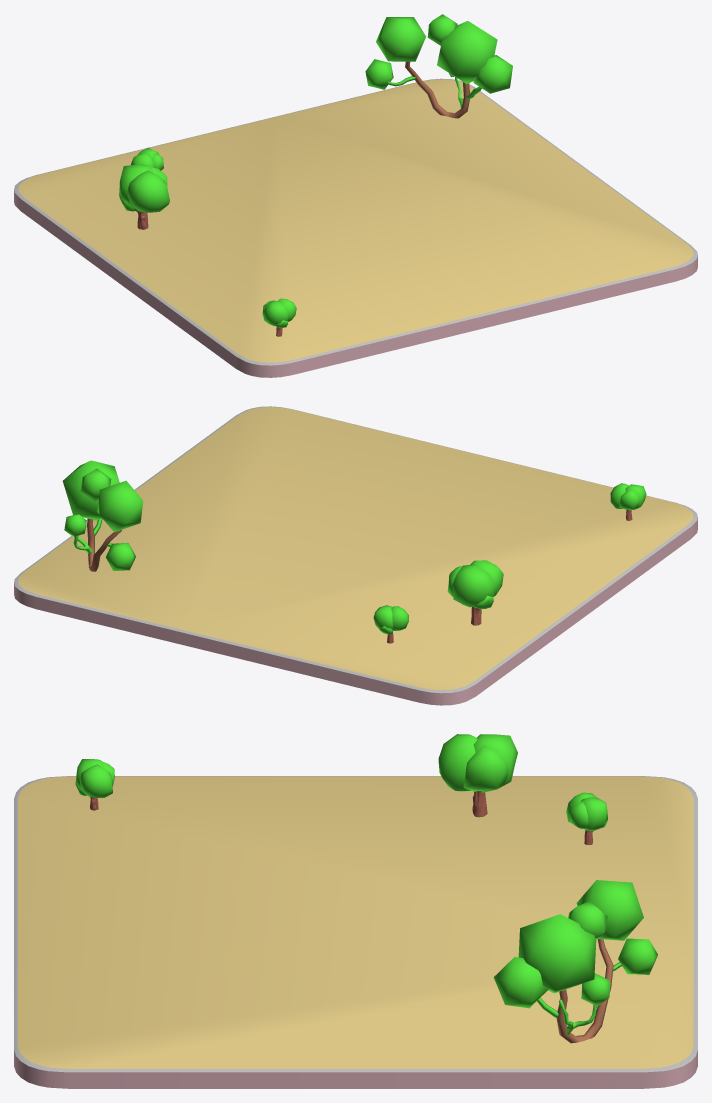
The model's file is ffiish platform.fbx.
The picture shows the model from 3 angles, top to bottom: view 1: azimuth 30°, elevation 25°; view 2: azimuth 150°, elevation 25°; view 3: azimuth 270°, elevation 25°; orthographic projection. The views are drawn at different scales.
Visible parts, largest first — view 1: ground, Tree_lp_11, Icosphere, Icosphere.001; view 2: ground, Tree_lp_11, Icosphere, Icosphere.001, Icosphere.002; view 3: ground, Tree_lp_11, Icosphere, Icosphere.001, Icosphere.002.
Part boxes in pixels (x1=…): ground: x1=14, y1=78, x2=697, y2=377; Tree_lp_11: x1=365, y1=14, x2=512, y2=118; Icosphere: x1=119, y1=164, x2=169, y2=212; Icosphere.001: x1=262, y1=298, x2=296, y2=327; ground: x1=14, y1=406, x2=697, y2=705; Tree_lp_11: x1=62, y1=460, x2=142, y2=571; Icosphere: x1=447, y1=560, x2=503, y2=609; Icosphere.001: x1=610, y1=483, x2=646, y2=510; Icosphere.002: x1=373, y1=605, x2=408, y2=634; ground: x1=14, y1=776, x2=697, y2=1088; Tree_lp_11: x1=493, y1=880, x2=657, y2=1043; Icosphere: x1=438, y1=734, x2=517, y2=792; Icosphere.001: x1=75, y1=759, x2=114, y2=797; Icosphere.002: x1=566, y1=792, x2=607, y2=831.
Bounding box in the file's own units: 108 × 26.54 × 106.
